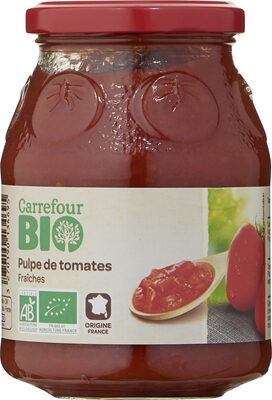Chair de tomates: (14, 20, 258, 380)
